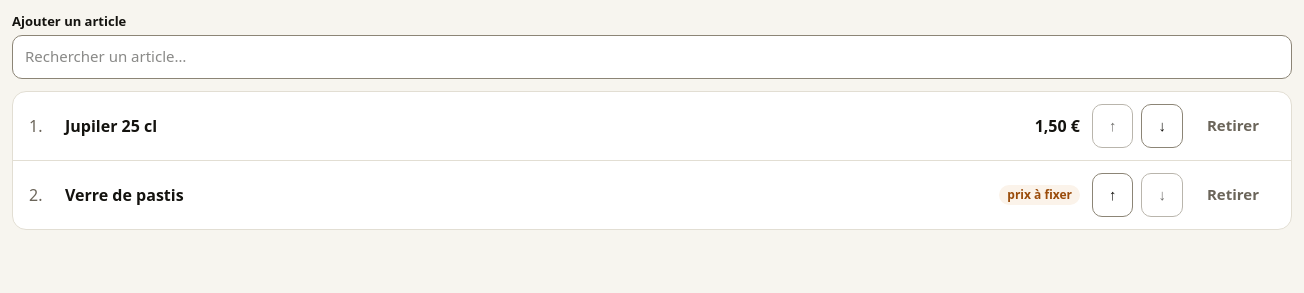
it: MenuEditor › warns when the menu could not be saved
Click the button with aria-label "Retirer Jupiler 25 cl de la carte". click: (1233, 126)
box: 1191,104 -> 1275,148
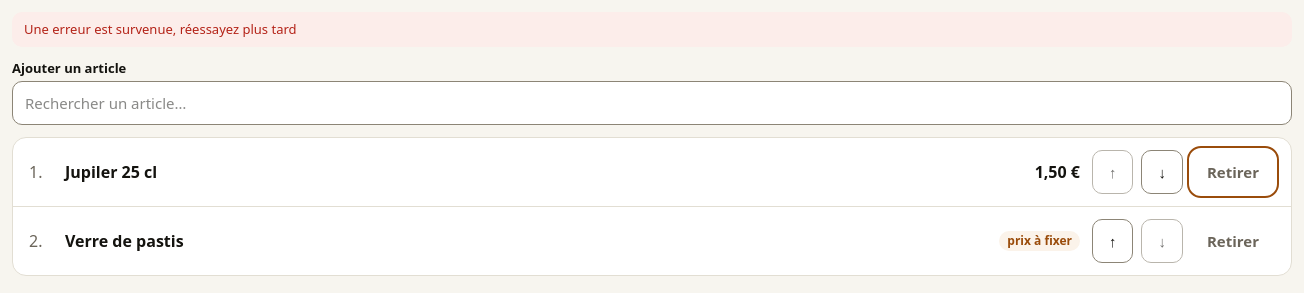
expect the message shows "Une erreur est survenue": met, box 24,20 -> 297,38
